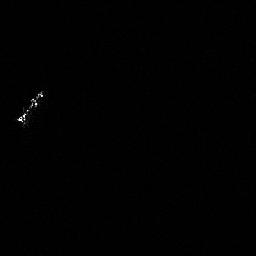ship: (13, 86, 48, 129)
